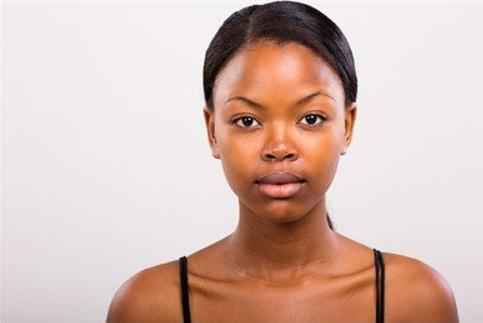Sober: (215, 55, 340, 216)
